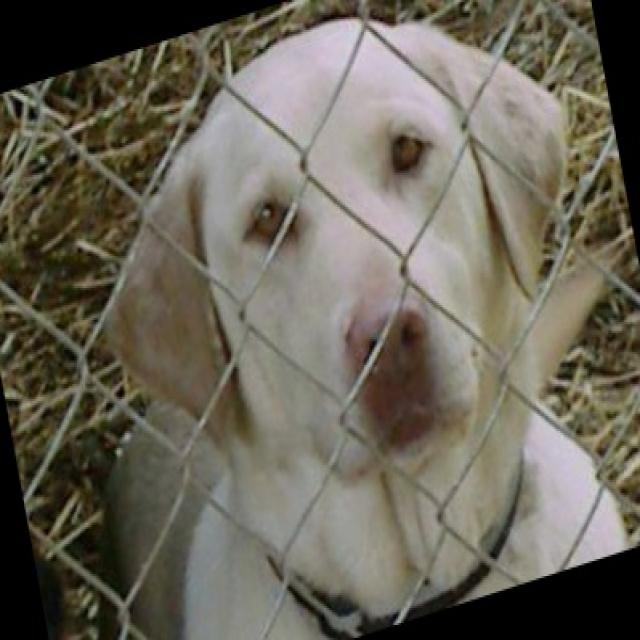sad: (126, 0, 594, 564)
